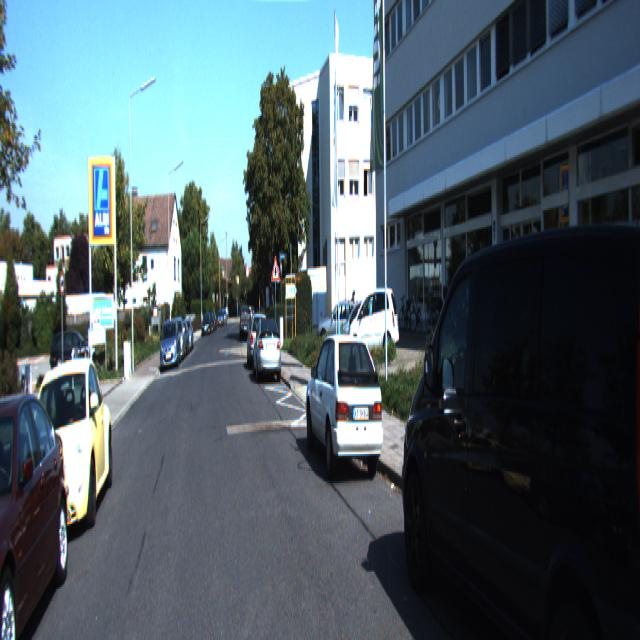Car: (396, 167, 639, 638), (9, 347, 114, 547), (302, 328, 386, 488), (346, 283, 401, 362), (316, 299, 366, 353), (252, 316, 282, 384), (246, 311, 270, 370), (159, 318, 181, 371), (239, 304, 250, 341)
